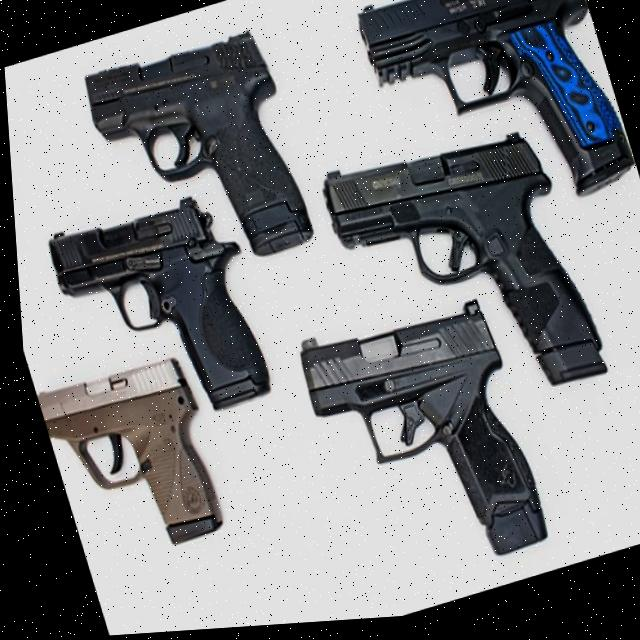pistol: (311, 116, 606, 447), (284, 289, 548, 601), (348, 0, 638, 246), (73, 24, 319, 297), (36, 180, 279, 444), (27, 347, 229, 571)
